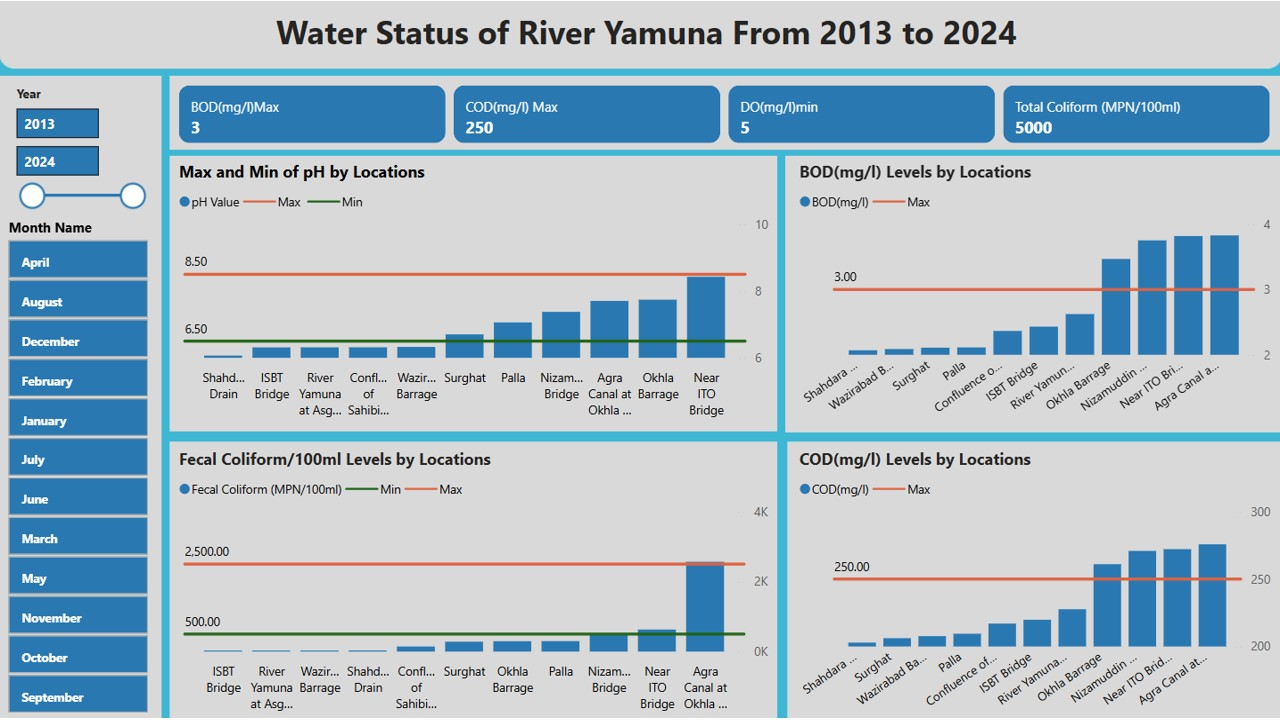

What the dashboard file says about the page in this screenshot:
{"tool":"powerbi","page":{"name":"Dashboard_1","canvas":[1280,720],"ordinal":0},"visuals":[{"type":"textbox","box":[10.2,7.2,1269.8,53.2],"z":0},{"type":"slicer","fields":{"Values":["Dataset.Year"]},"box":[4.5,83,149.8,135.4],"z":1000},{"type":"lineClusteredColumnComboChart","title":"Max and Min of pH by Locations","fields":{"Category":["Dataset.Locations"],"Y":["Sum(Dataset.pH)"],"Y2":["Max(Criteria.pH(Max))","Min(Criteria.pH(Min))"]},"box":[174.2,161.6,597.6,261.8],"z":2000},{"type":"advancedSlicerVisual","fields":{"Values":["Dataset.Month Name"]},"box":[4.5,218.4,149.8,494.7],"z":3000},{"type":"cardVisual","fields":{"Data":["Max(Criteria.BOD(mg/l)max)","Max(Criteria.COD(mg/l) Max)","Min(Criteria.DO(mg/l)min)","Max(Criteria.Total Coliform (MPN/100ml))"]},"box":[174.2,83,1098.6,67.7],"z":4000},{"type":"lineClusteredColumnComboChart","title":"Fecal Coliform/100ml Levels by Locations","fields":{"Category":["Dataset.Locations"],"Y":["Sum(Dataset.Faecal Coliform (MPN/100ml))"],"Y2":["Min(Criteria.Fecal Coliform/100ml(min))","Max(Criteria.Fecal Coliform/100ml(max))"]},"box":[174.2,445,597.6,268.1],"z":5000},{"type":"lineClusteredColumnComboChart","title":"BOD(mg/l) Levels by Locations","fields":{"Category":["Dataset.Locations"],"Y":["Sum(Dataset.BOD(mg/l))"],"Y2":["Max(Criteria.BOD(mg/l)max)"]},"box":[792.6,161.6,480.2,261.8],"z":6000},{"type":"lineClusteredColumnComboChart","title":"COD(mg/l) Levels by Locations","fields":{"Category":["Dataset.Locations"],"Y":["Sum(Dataset.COD(mg/l))"],"Y2":["Max(Criteria.COD(mg/l) Max)"]},"box":[792.6,445,480.2,268.1],"z":7000}]}

Visuals, with their boxes in screenshot pixels (x1, y1, x2, y2), scaled from the page's 1280x720 canvas onto the 1280x720 screenshot:
textbox: box(10, 7, 1279, 60)
slicer - Dataset.Year: box(4, 83, 154, 218)
"Max and Min of pH by Locations" lineClusteredColumnComboChart: box(174, 162, 772, 423)
advancedSlicerVisual - Dataset.Month Name: box(4, 218, 154, 713)
cardVisual - Max(Criteria.BOD(mg/l)max) x Max(Criteria.COD(mg/l) Max): box(174, 83, 1273, 151)
"Fecal Coliform/100ml Levels by Locations" lineClusteredColumnComboChart: box(174, 445, 772, 713)
"BOD(mg/l) Levels by Locations" lineClusteredColumnComboChart: box(793, 162, 1273, 423)
"COD(mg/l) Levels by Locations" lineClusteredColumnComboChart: box(793, 445, 1273, 713)
